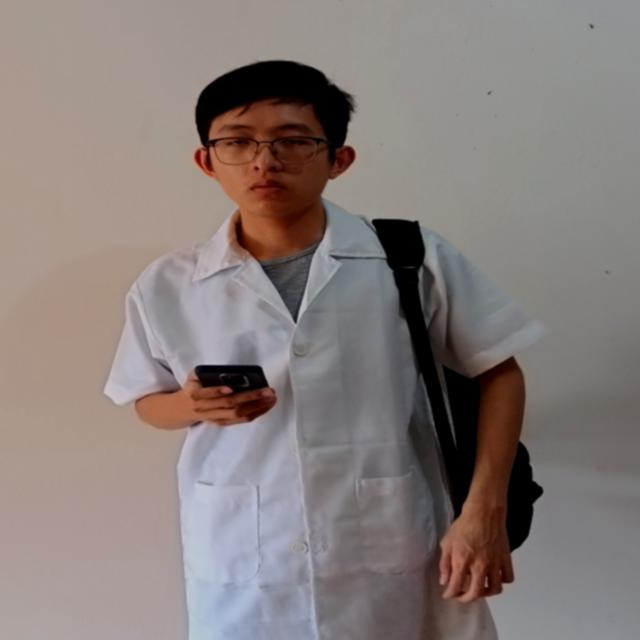person_with_labcoat: (105, 61, 544, 640)
